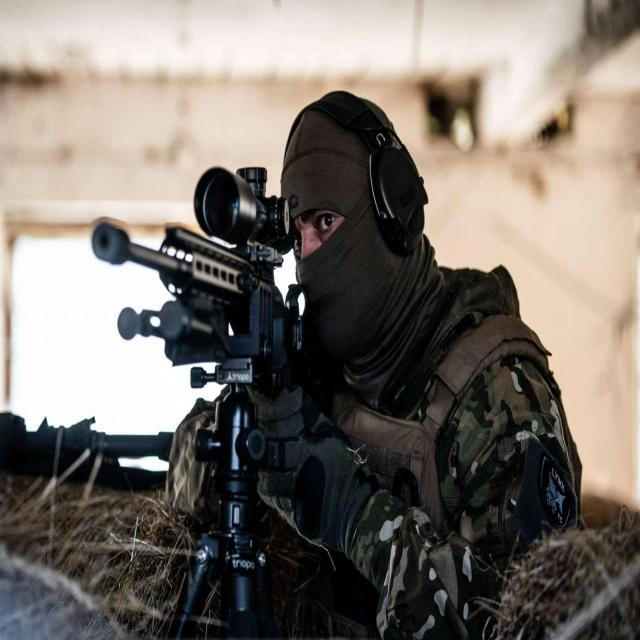weapon: (89, 154, 312, 640)
